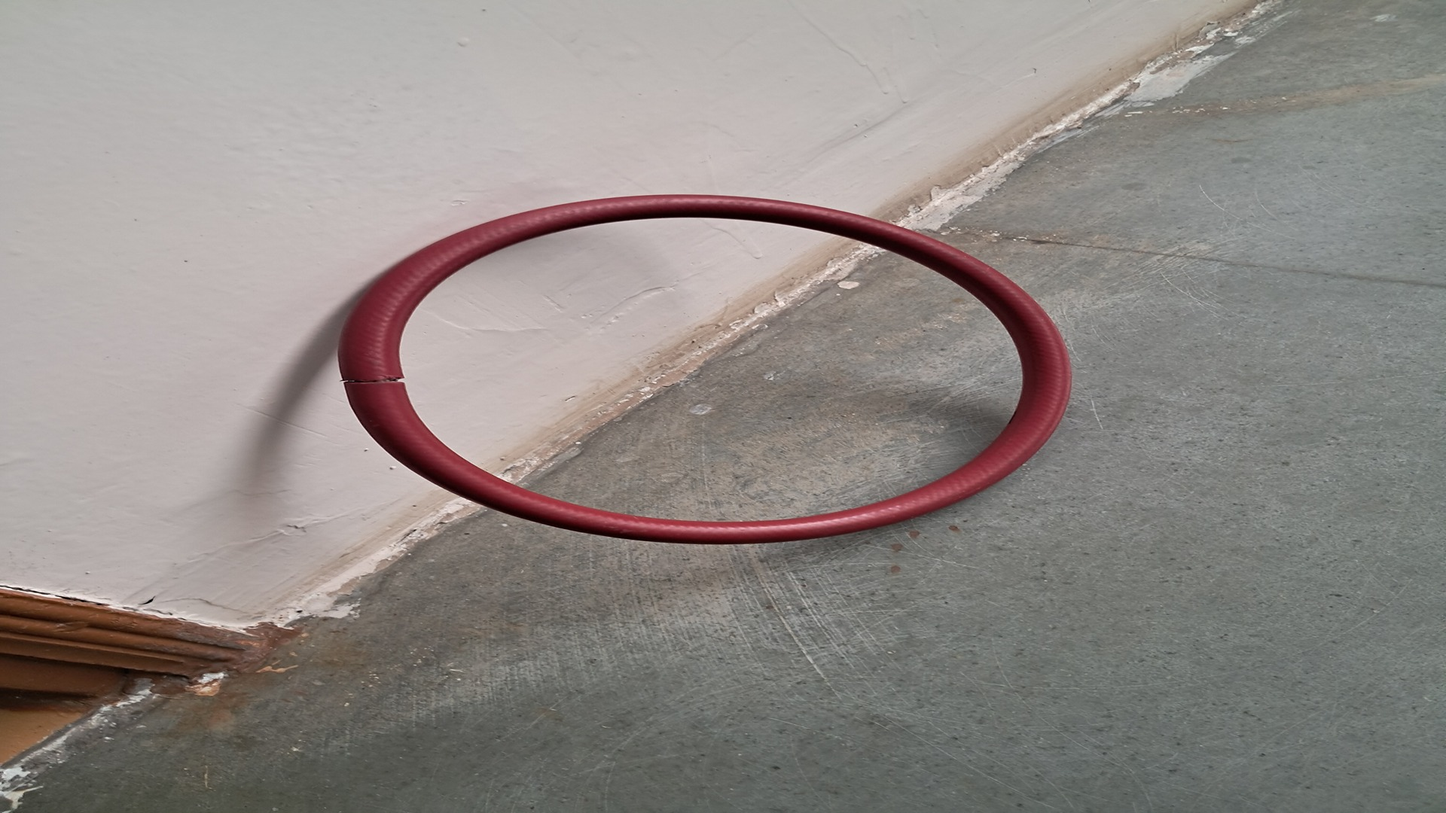Red ring: (337, 196, 1074, 547)
